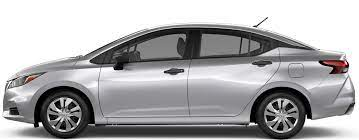Nissan: (6, 25, 356, 140)
